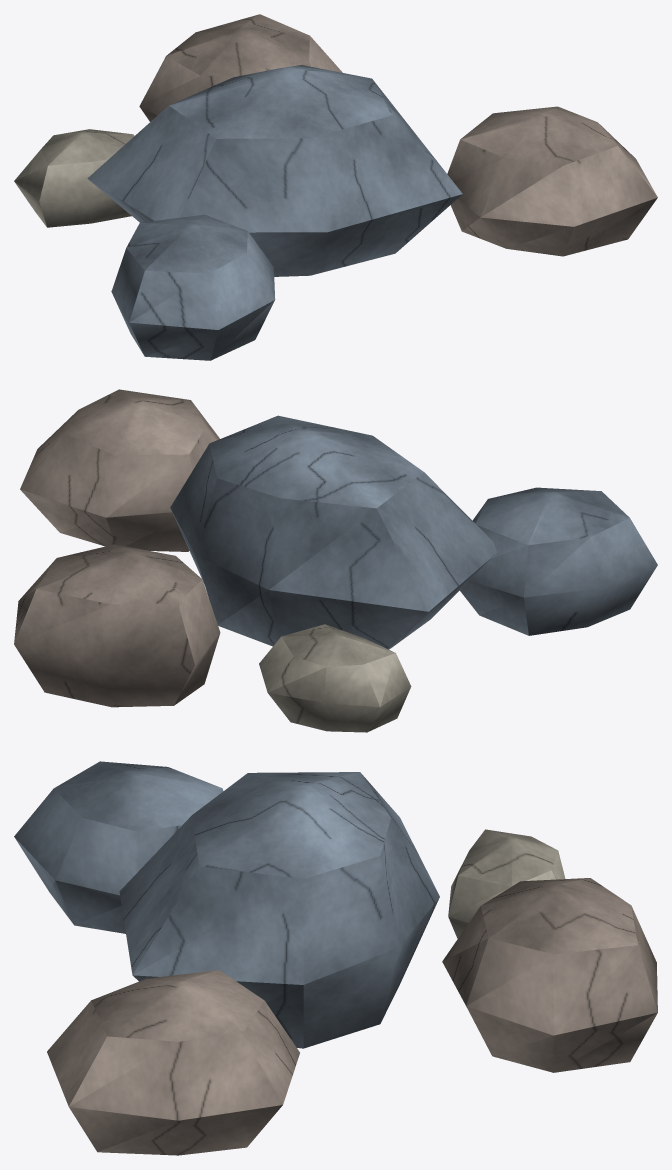
File: scatter_cluster.glb
3 renders of one model, top to bottom at view 1: azimuth 30°, elevation 25°; view 2: azimuth 150°, elevation 25°; view 3: azimuth 270°, elevation 25°, orthographic. The views are drawn at different scales.
Parts seen in each view (by area): view 1: DL008_ScatterCluster_stone_blue, DL008_ScatterCluster_stone_warm, DL008_ScatterCluster_sediment; view 2: DL008_ScatterCluster_stone_blue, DL008_ScatterCluster_stone_warm, DL008_ScatterCluster_sediment; view 3: DL008_ScatterCluster_stone_blue, DL008_ScatterCluster_stone_warm, DL008_ScatterCluster_sediment.
Boxes of the visible parts, left/top/right/bottom form: DL008_ScatterCluster_stone_blue: left=87, top=65, right=462, bottom=360; DL008_ScatterCluster_stone_warm: left=139, top=14, right=657, bottom=256; DL008_ScatterCluster_sediment: left=14, top=129, right=134, bottom=227; DL008_ScatterCluster_stone_blue: left=170, top=415, right=657, bottom=649; DL008_ScatterCluster_stone_warm: left=14, top=389, right=220, bottom=707; DL008_ScatterCluster_sediment: left=259, top=624, right=411, bottom=732; DL008_ScatterCluster_stone_blue: left=14, top=761, right=439, bottom=1048; DL008_ScatterCluster_stone_warm: left=47, top=878, right=657, bottom=1155; DL008_ScatterCluster_sediment: left=448, top=829, right=565, bottom=938.
Size of the model in its own units: 1.84 by 0.63 by 1.54.
Materials: 3 (3 with a texture image).
